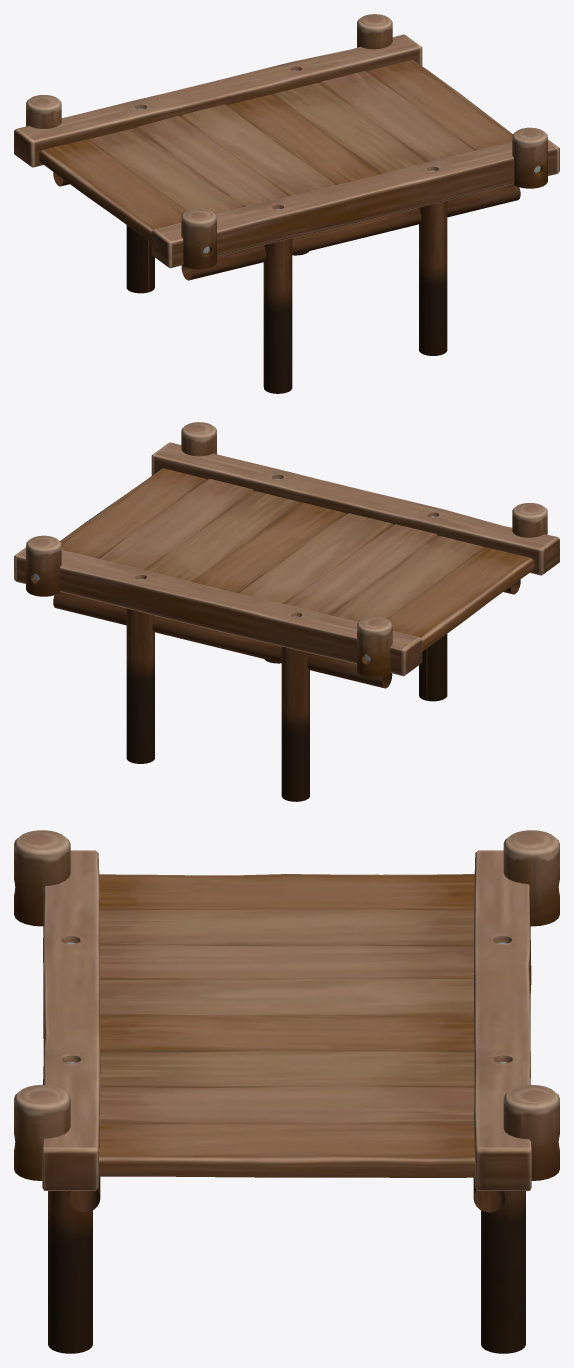
Rendered from bridge-wood.glb.
3 renders of one model, top to bottom at view 1: azimuth 30°, elevation 25°; view 2: azimuth 150°, elevation 25°; view 3: azimuth 270°, elevation 25°, orthographic. The views are drawn at different scales.
Bounding box in the file's own units: 37.91 × 18.56 × 29.
1 material, 1 textured.
